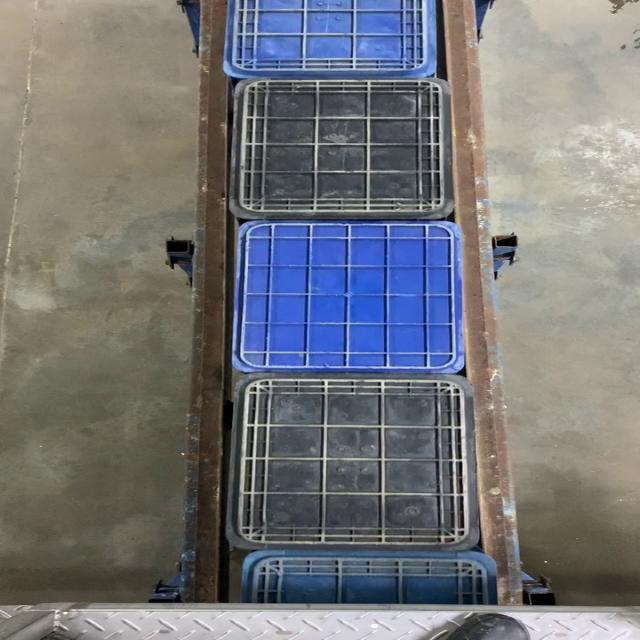Box: (224, 377, 484, 551), (228, 219, 466, 375), (223, 76, 458, 220)
